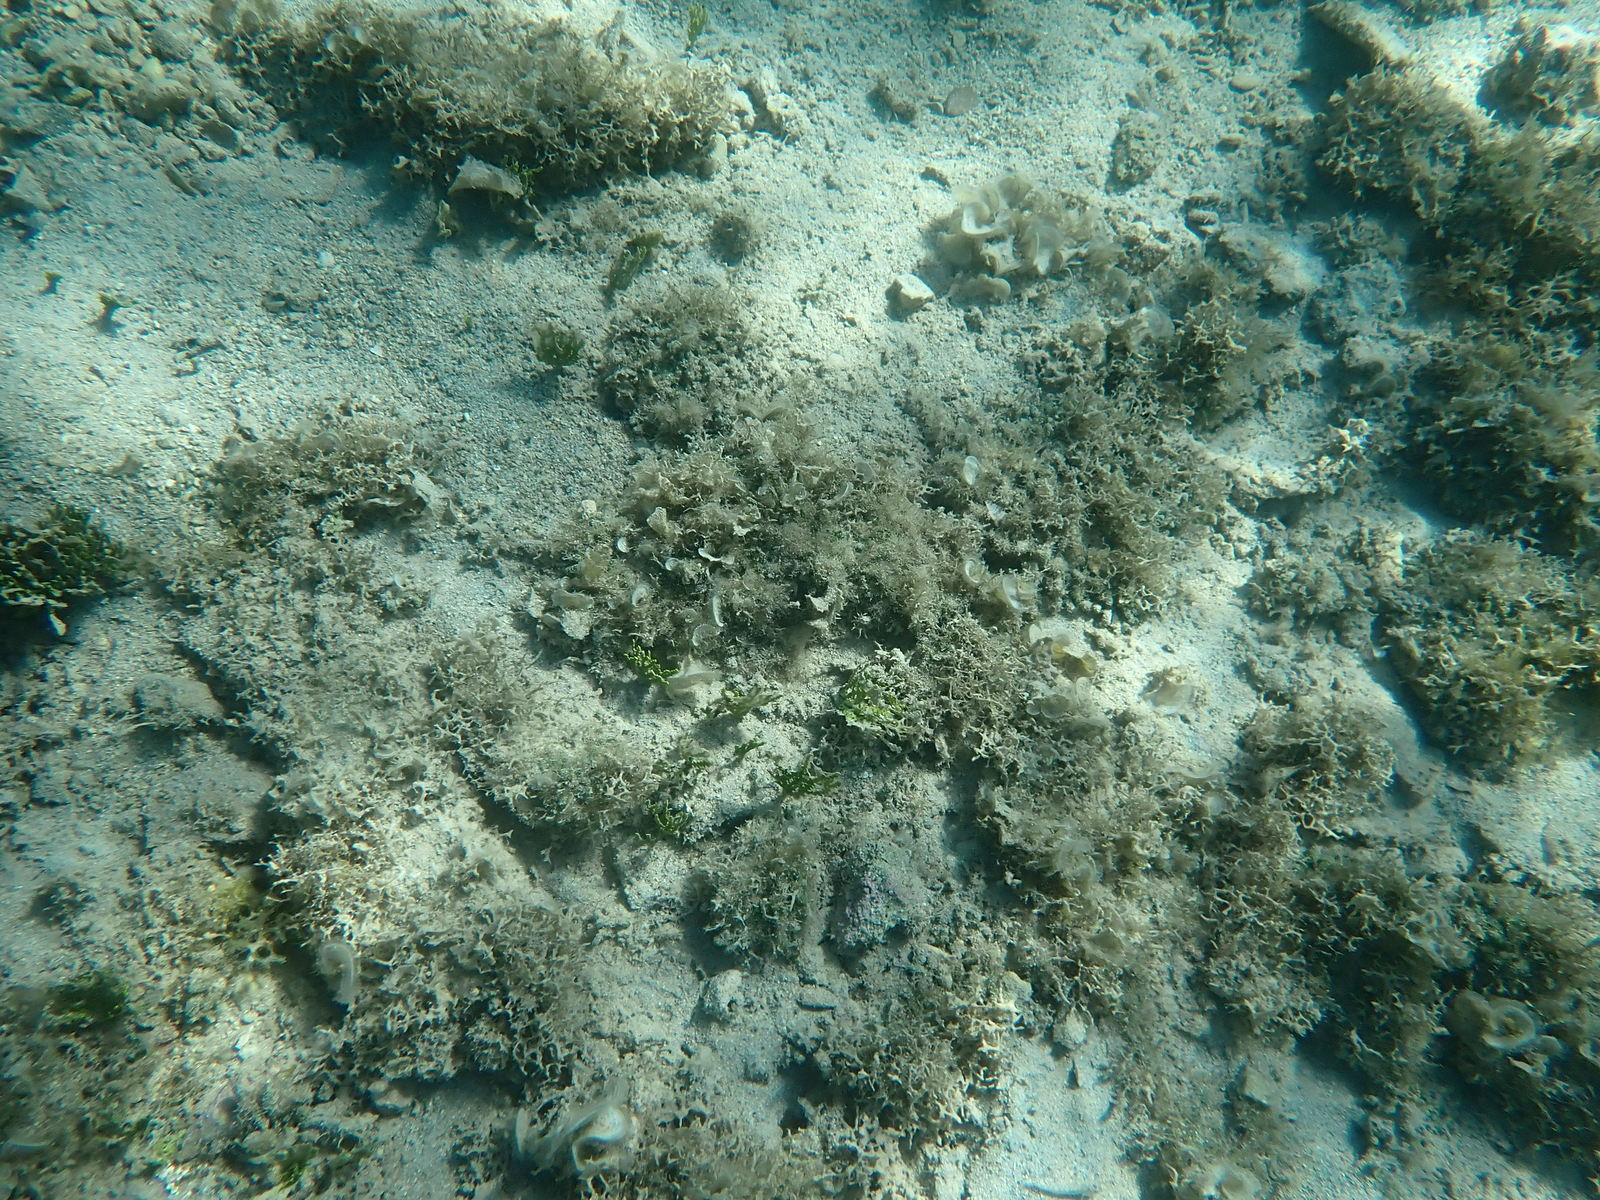halimeda: (8, 507, 127, 616), (767, 755, 842, 808), (535, 316, 586, 376), (621, 638, 680, 686), (835, 682, 891, 731), (612, 247, 653, 300), (653, 803, 695, 839), (688, 1, 711, 52), (733, 732, 767, 761), (723, 684, 741, 715)
